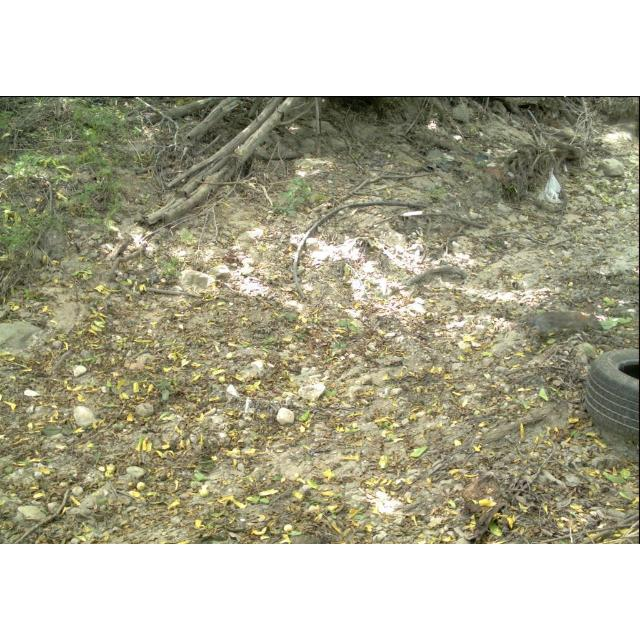animals: (530, 311, 606, 351)
